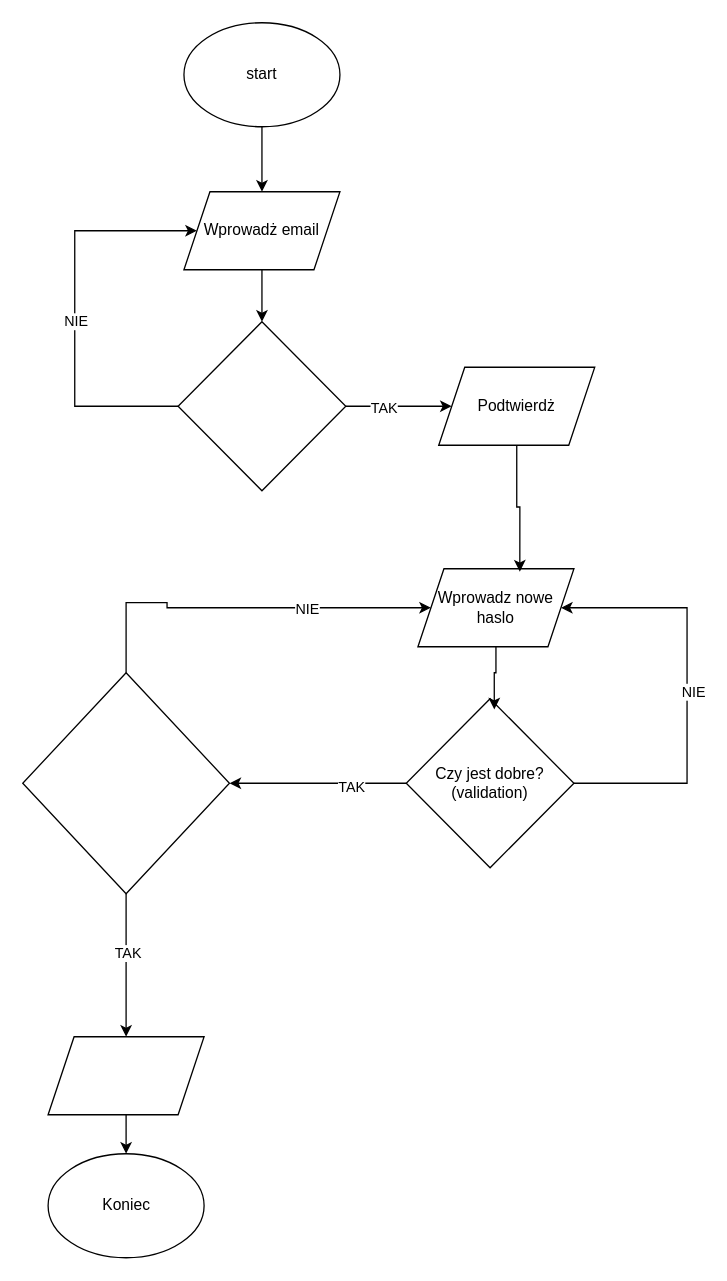
The diagram is 727 pixels wide and 1281 high, and some of its shapes have lost their labels. Here are the shapes that lost their labels. From the top down, the centre of each, then its label:
At [261,405]: "Czy jest dobry?".
At [125,782]: "Czy jest takie same jak poprzednie?".
At [125,1075]: "Zmień hasło".
